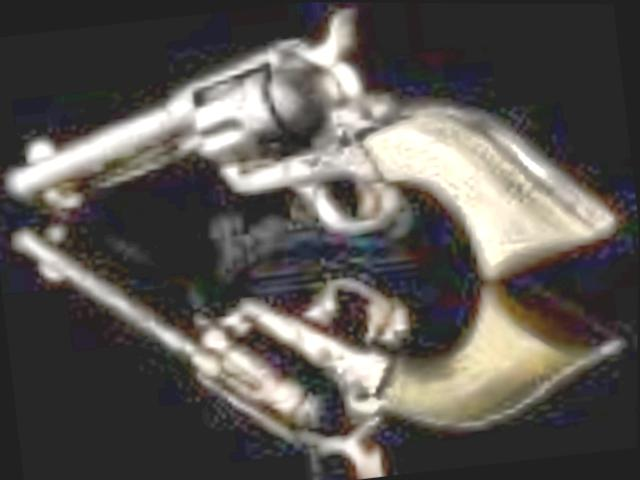pistol: (0, 0, 619, 324)
